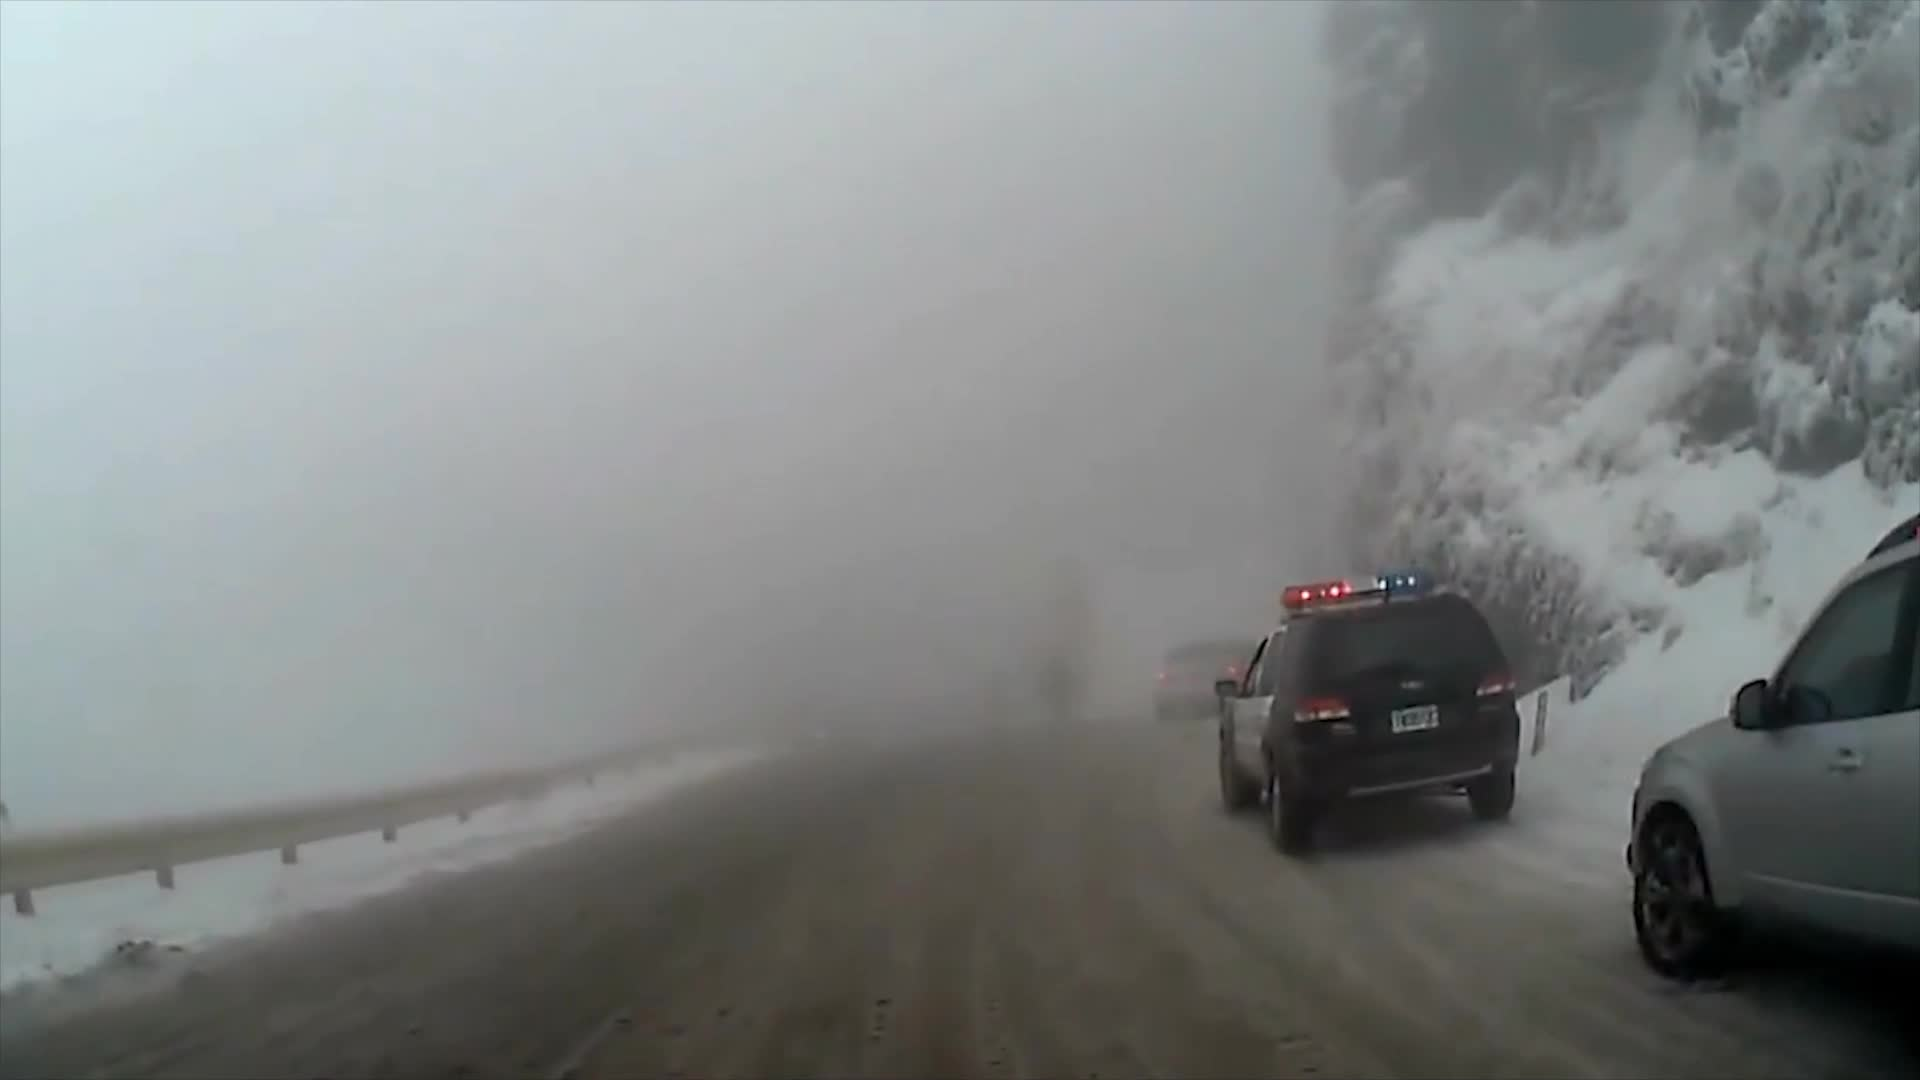vehicle: (1619, 517, 1920, 1043), (1211, 570, 1520, 857)
